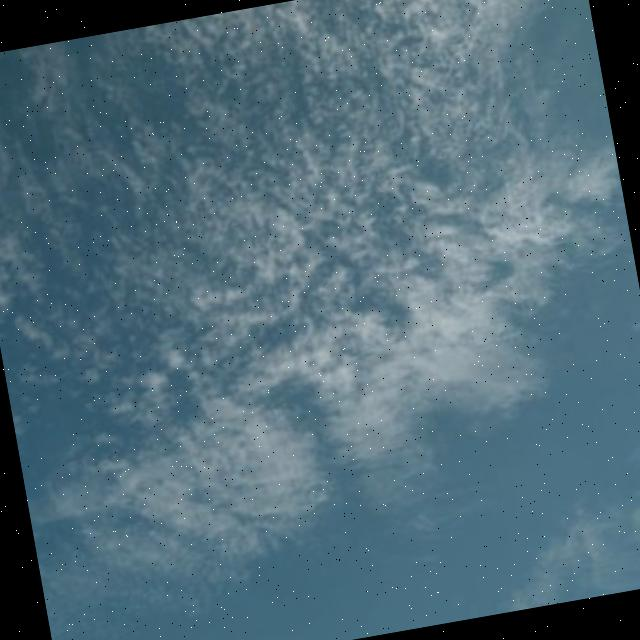Cc: (1, 1, 640, 581)
